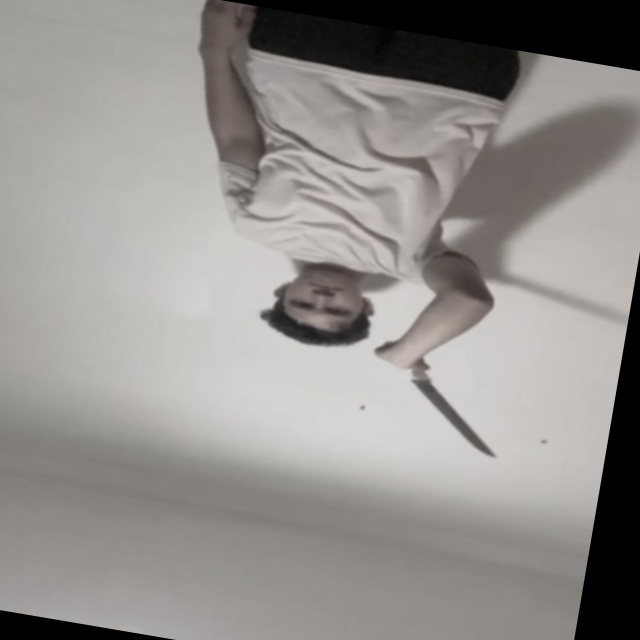Sharp-Object: (403, 380, 502, 457)
